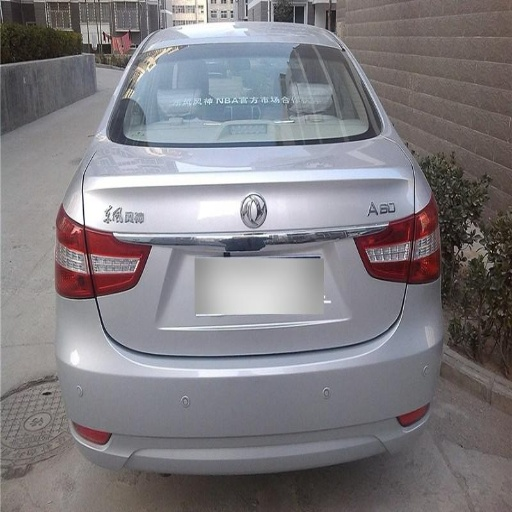back_bumper: (41, 276, 439, 470)
tailgate: (70, 135, 410, 357)
